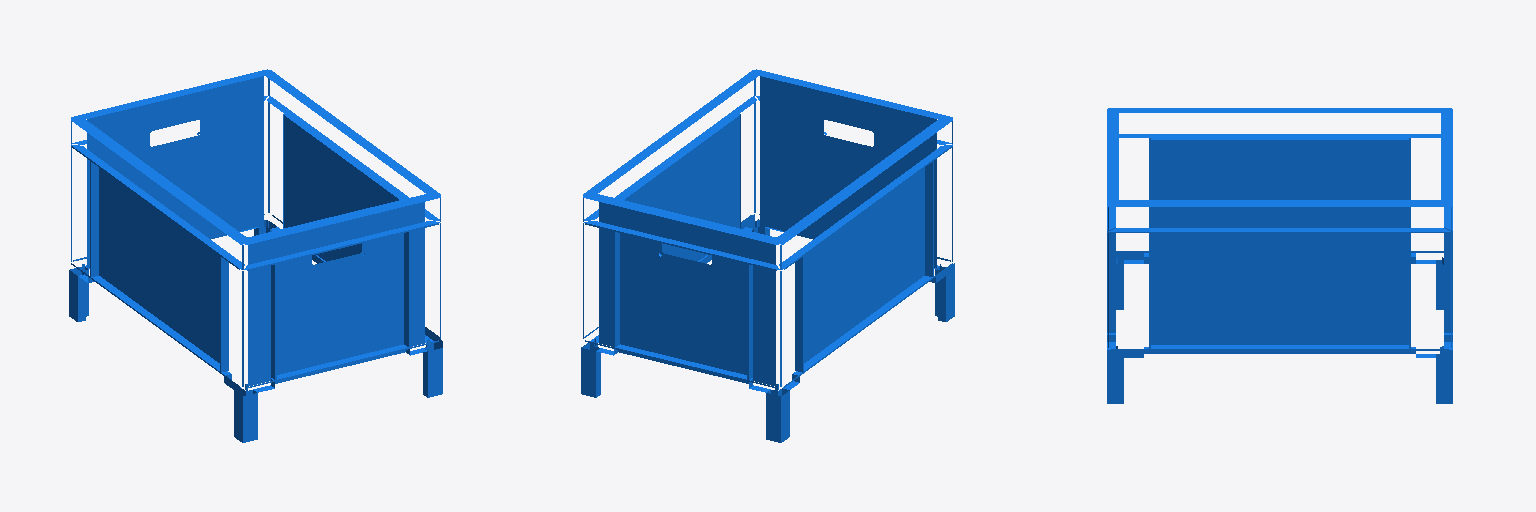
File: ToteMesh.obj
3 views of the same model, side by side, from view 1: azimuth 30°, elevation 25°; view 2: azimuth 150°, elevation 25°; view 3: azimuth 270°, elevation 25° (orthographic).
Size of the model in its own units: 0.4 by 0.379 by 0.6.